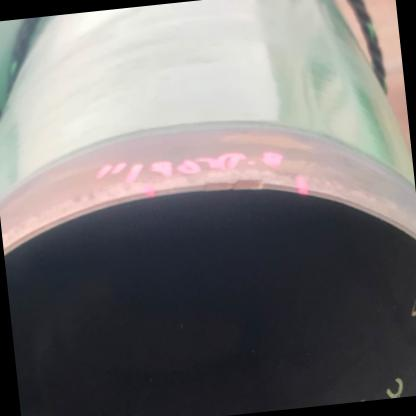Bevel: (180, 162, 276, 200)
